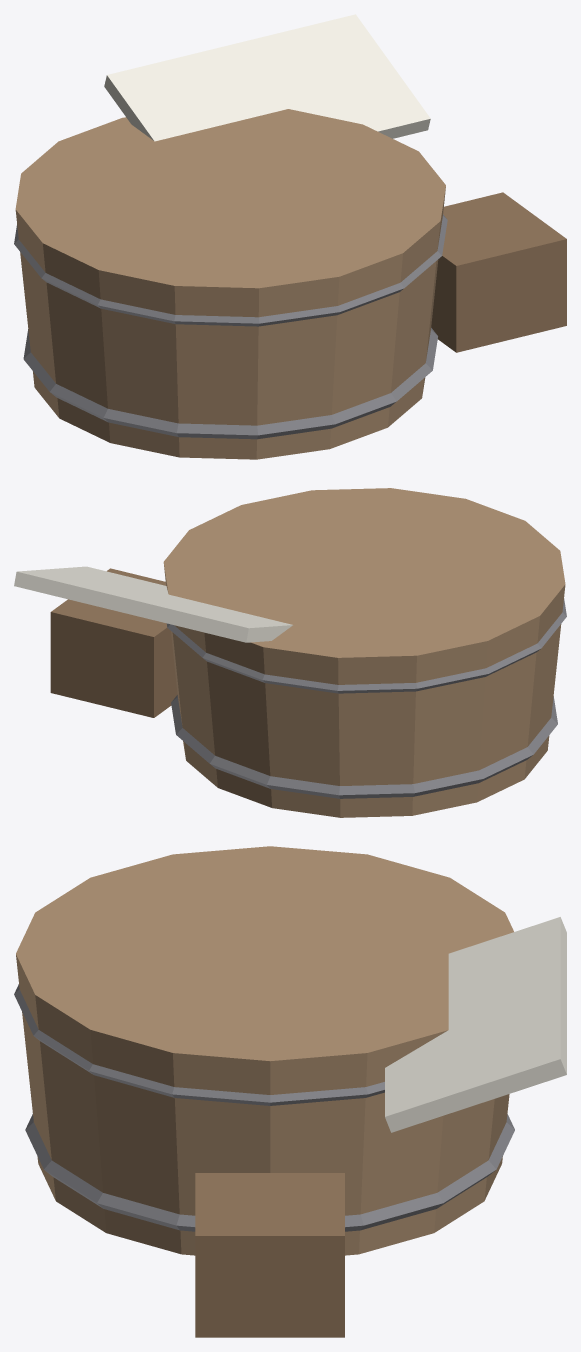
Rendered from wooden_tub.glb.
The picture shows the model from 3 angles, top to bottom: view 1: azimuth 30°, elevation 25°; view 2: azimuth 150°, elevation 25°; view 3: azimuth 270°, elevation 25°; orthographic projection. The views are drawn at different scales.
Visible parts, largest first — view 1: wooden_tub; view 2: wooden_tub; view 3: wooden_tub.
Boxes of the visible parts, bbox=[...] form: wooden_tub: bbox=[14, 14, 566, 459]; wooden_tub: bbox=[14, 488, 566, 817]; wooden_tub: bbox=[14, 846, 566, 1337].
Size of the model in its own units: 1.79 by 0.7289 by 1.48.
